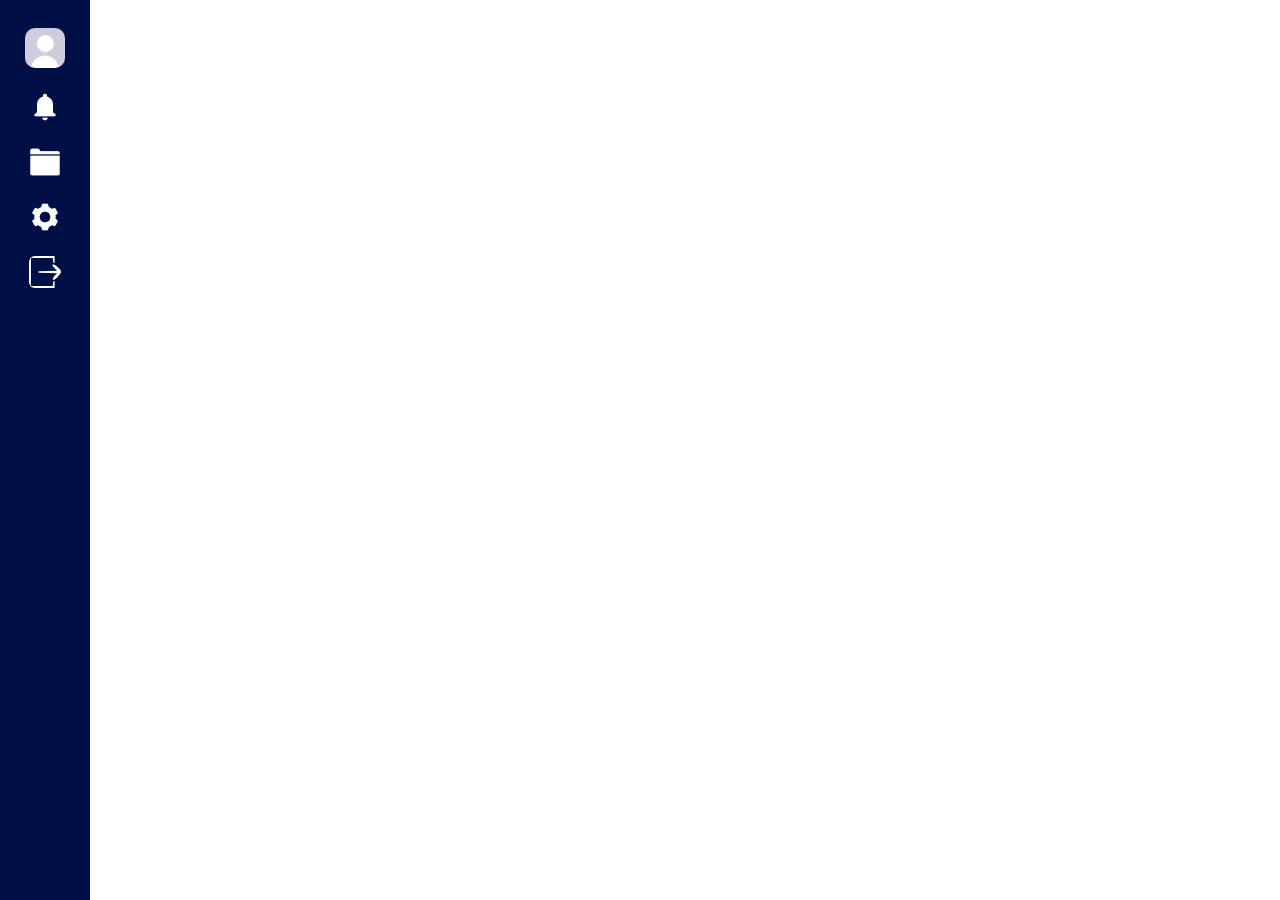
Test: Sidebar › Settings opens the Settings PopUp
Click the 4th button named "settings" at (45, 218), box [29, 201, 61, 236]
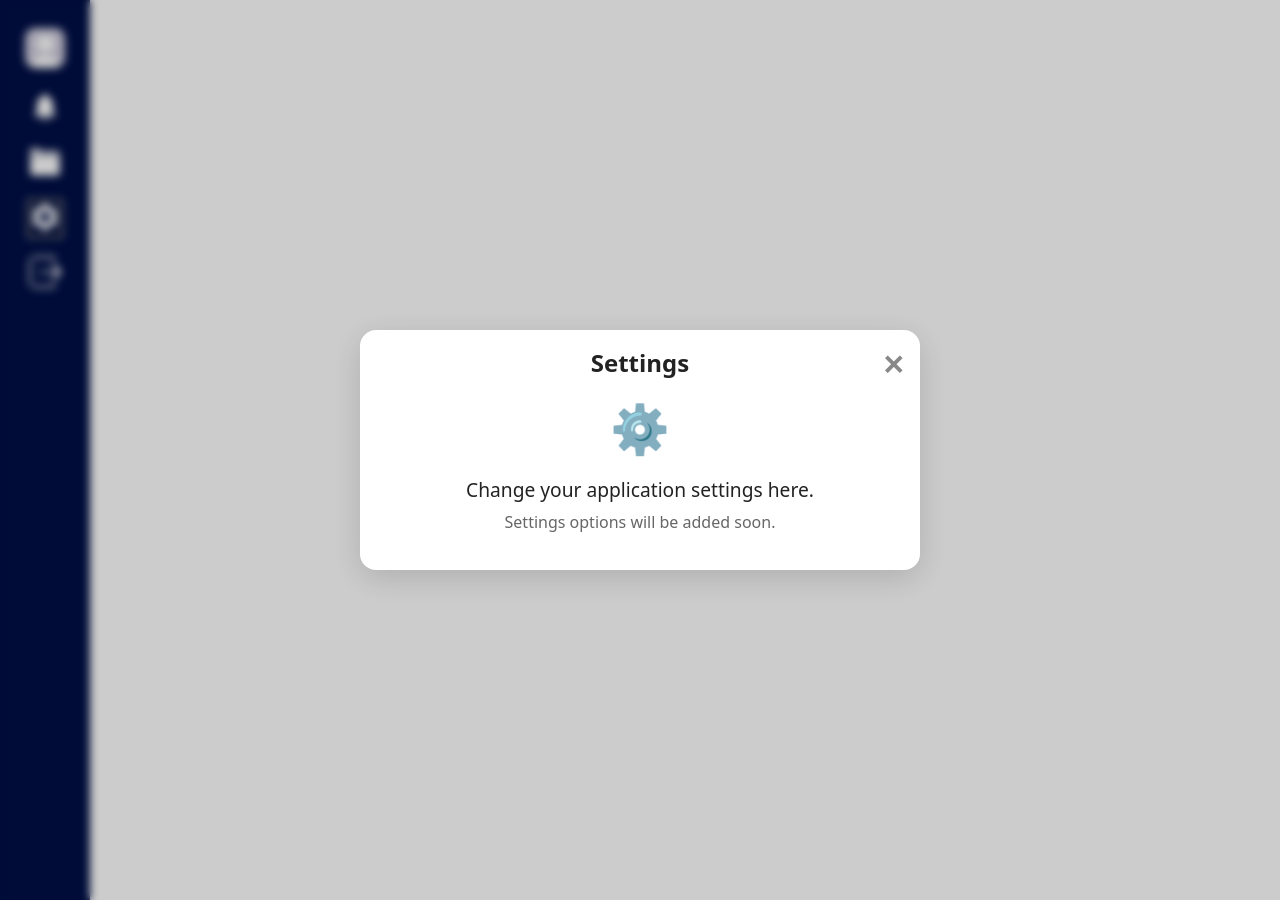
Expected: the text "Settings" is shown, [591, 346, 689, 379]
Expected: the text "Change your application settings here." is shown, [466, 476, 814, 503]
